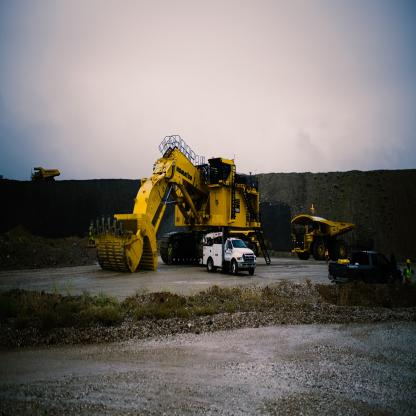dump_truck: (290, 204, 355, 260), (27, 156, 72, 193)
excavator: (86, 119, 278, 280)
light_vehicle: (327, 247, 402, 288), (205, 228, 264, 280)
